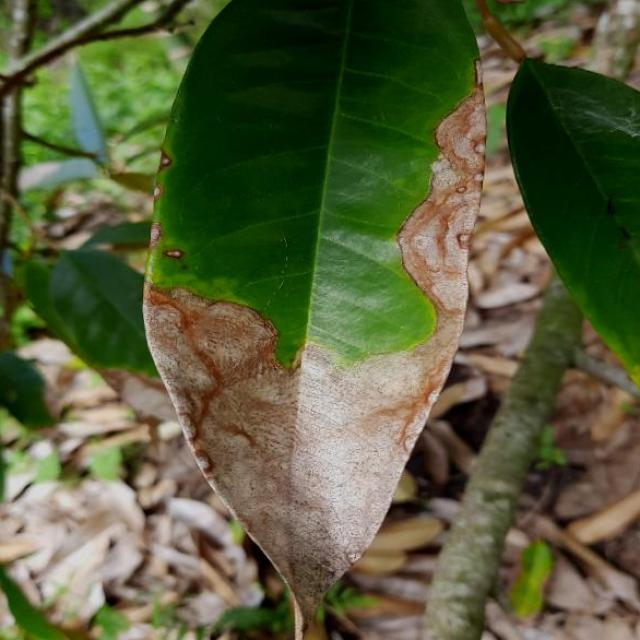Leaf Blight: (116, 0, 506, 640)
